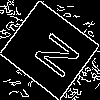N: (25, 24, 82, 80)
